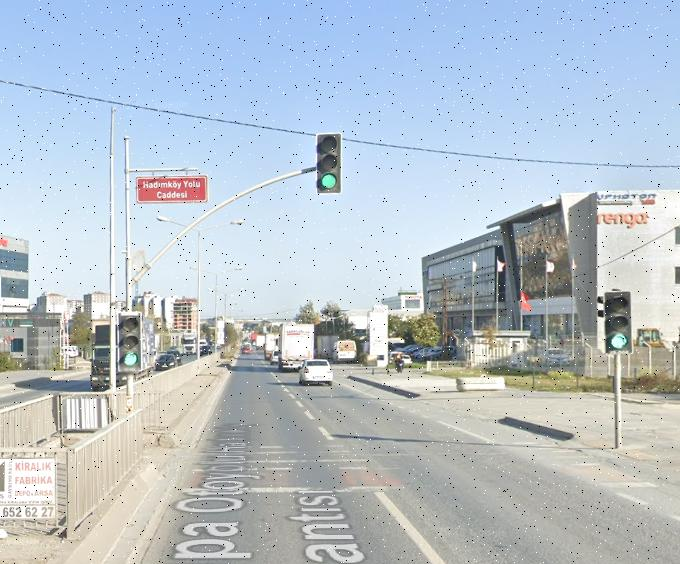greenlight: (317, 132, 341, 192), (605, 292, 628, 349), (119, 313, 140, 368)
